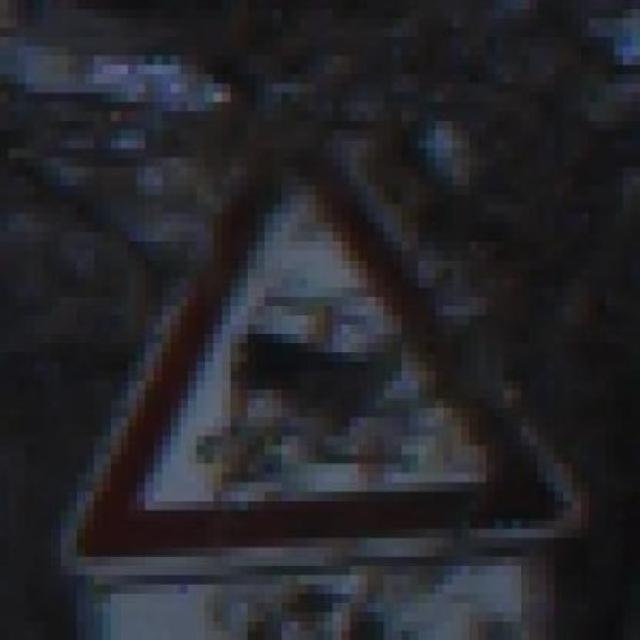Slippery Road Ahead: (42, 102, 615, 566)
